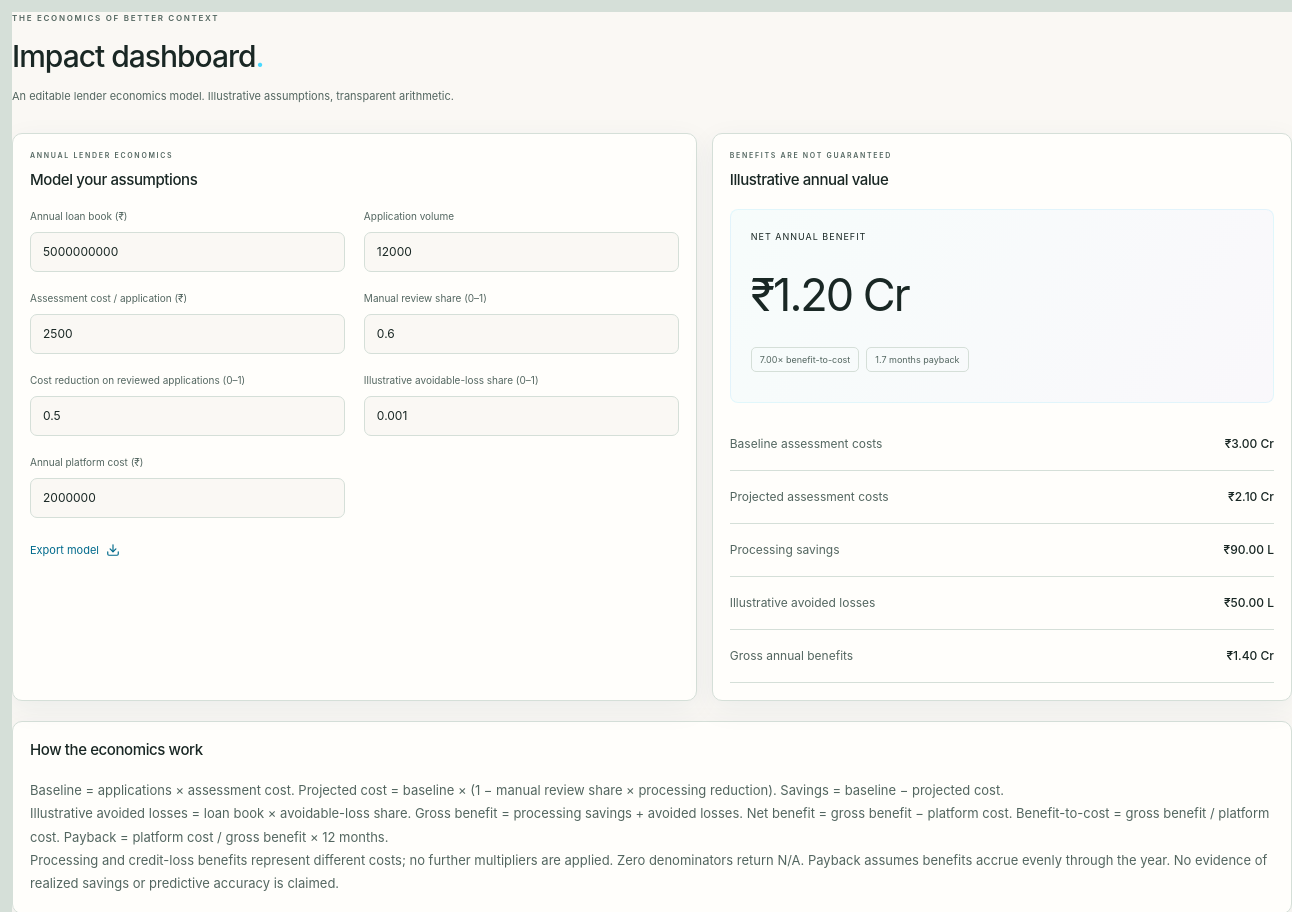
Scenario: Accessible product controls › recalculates economics after editing assumptions
The width and height of the screenshot is (1292, 912).
Replace the text in the number field labelled "Application volume" with "0" at (521,252), box x1=364 y1=232 x2=679 y2=272
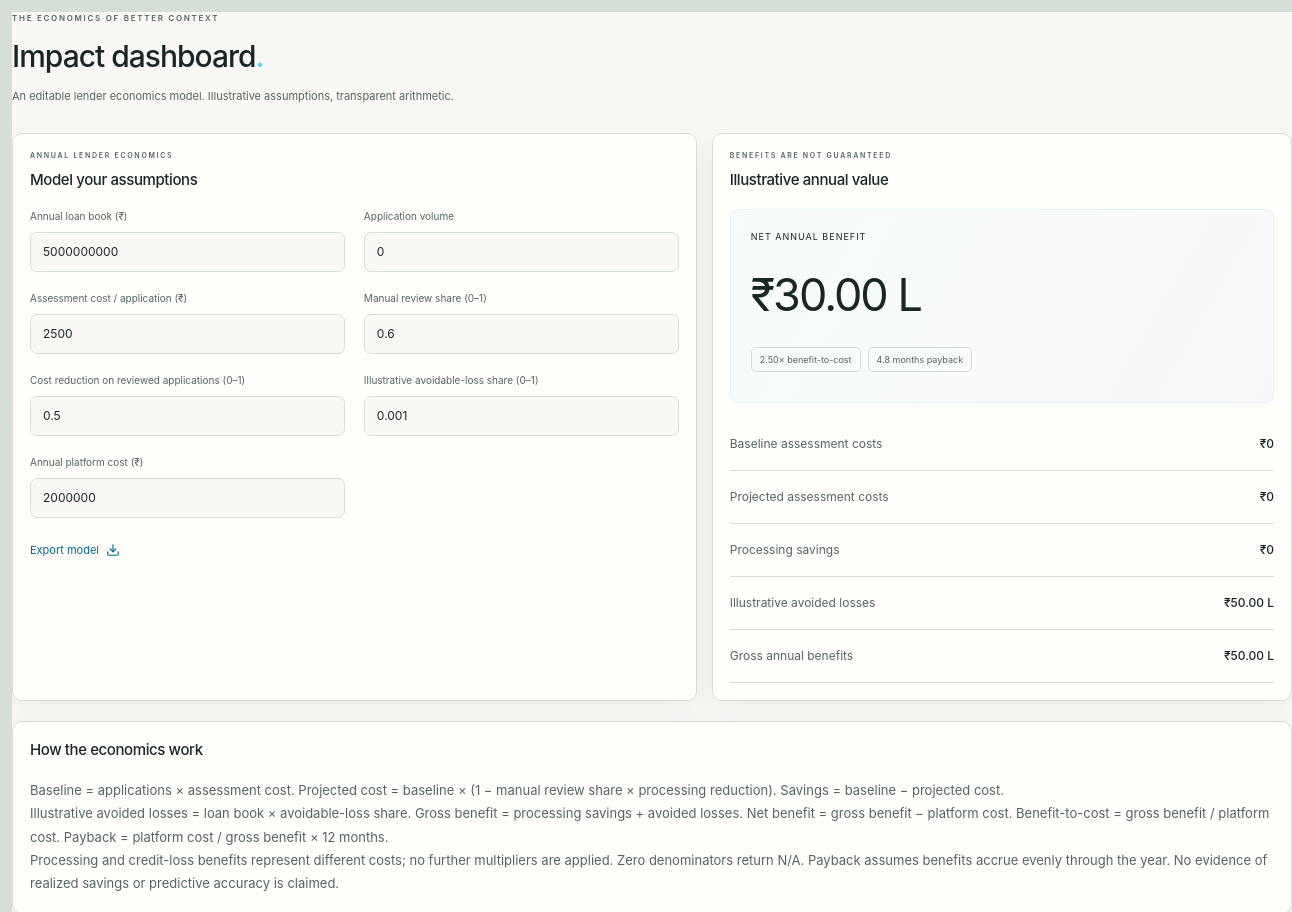
Expected: the text "₹30.00 L" is shown, x1=751 y1=267 x2=921 y2=322
